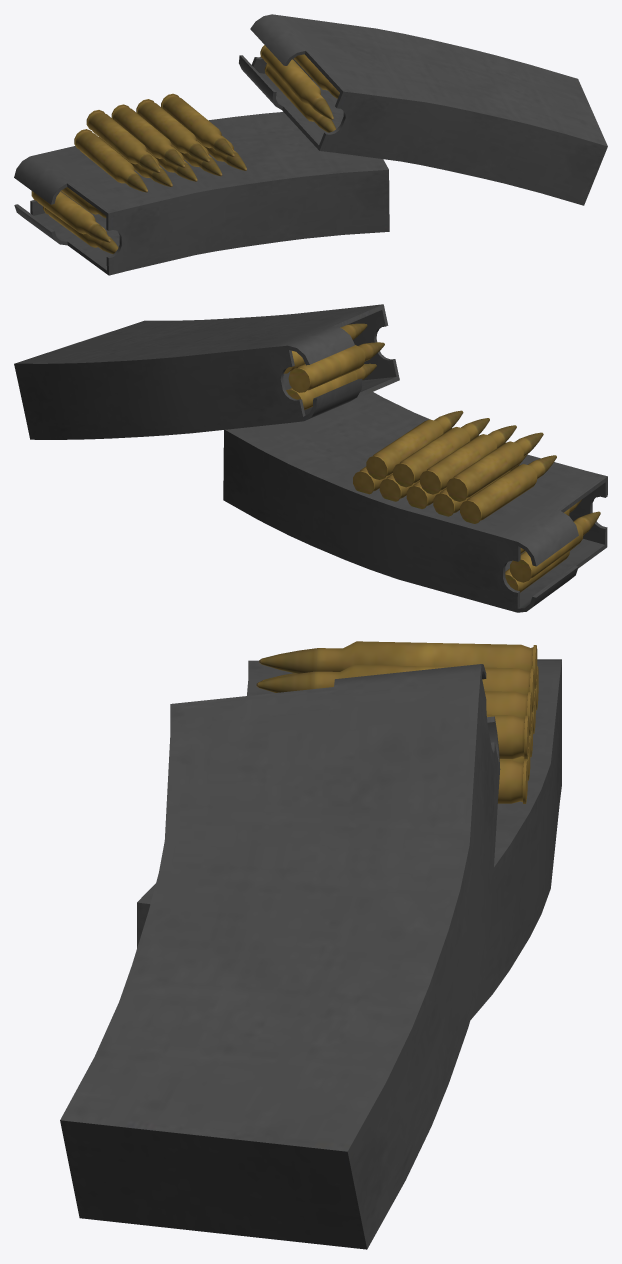
File: ammomags.glb
3 renders of one model, top to bottom at view 1: azimuth 30°, elevation 25°; view 2: azimuth 150°, elevation 25°; view 3: azimuth 270°, elevation 25°, orthographic. The views are drawn at different scales.
Parts seen in each view (by area): view 1: rifleAmmo_rifle_0; view 2: rifleAmmo_rifle_0; view 3: rifleAmmo_rifle_0.
Part boxes in pixels (x1,y1,x2,y2): rifleAmmo_rifle_0: (14,14,607,275); rifleAmmo_rifle_0: (14,304,607,612); rifleAmmo_rifle_0: (60,641,561,1249).
Size of the model in its own units: 0.353 by 0.1122 by 0.1503.
Materials: 1 (1 with a texture image).
